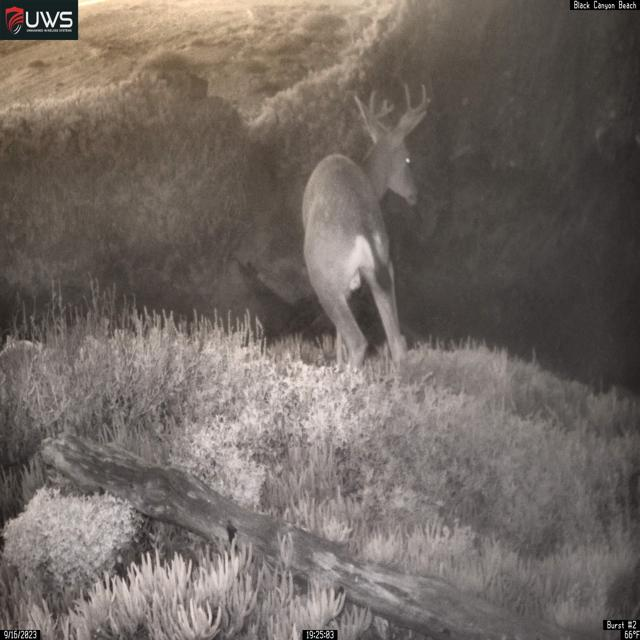deer: (301, 82, 431, 379)
